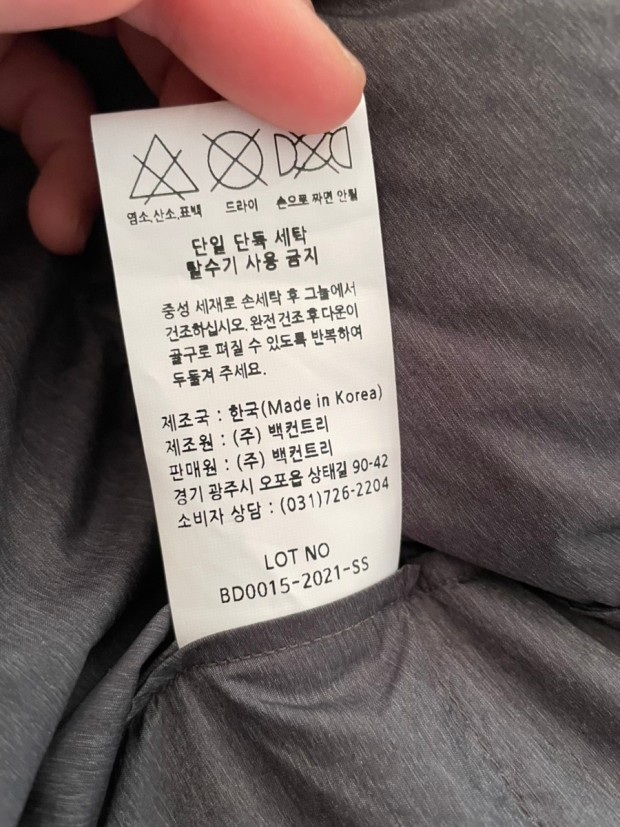KR_no_wring: (272, 130, 356, 180)
